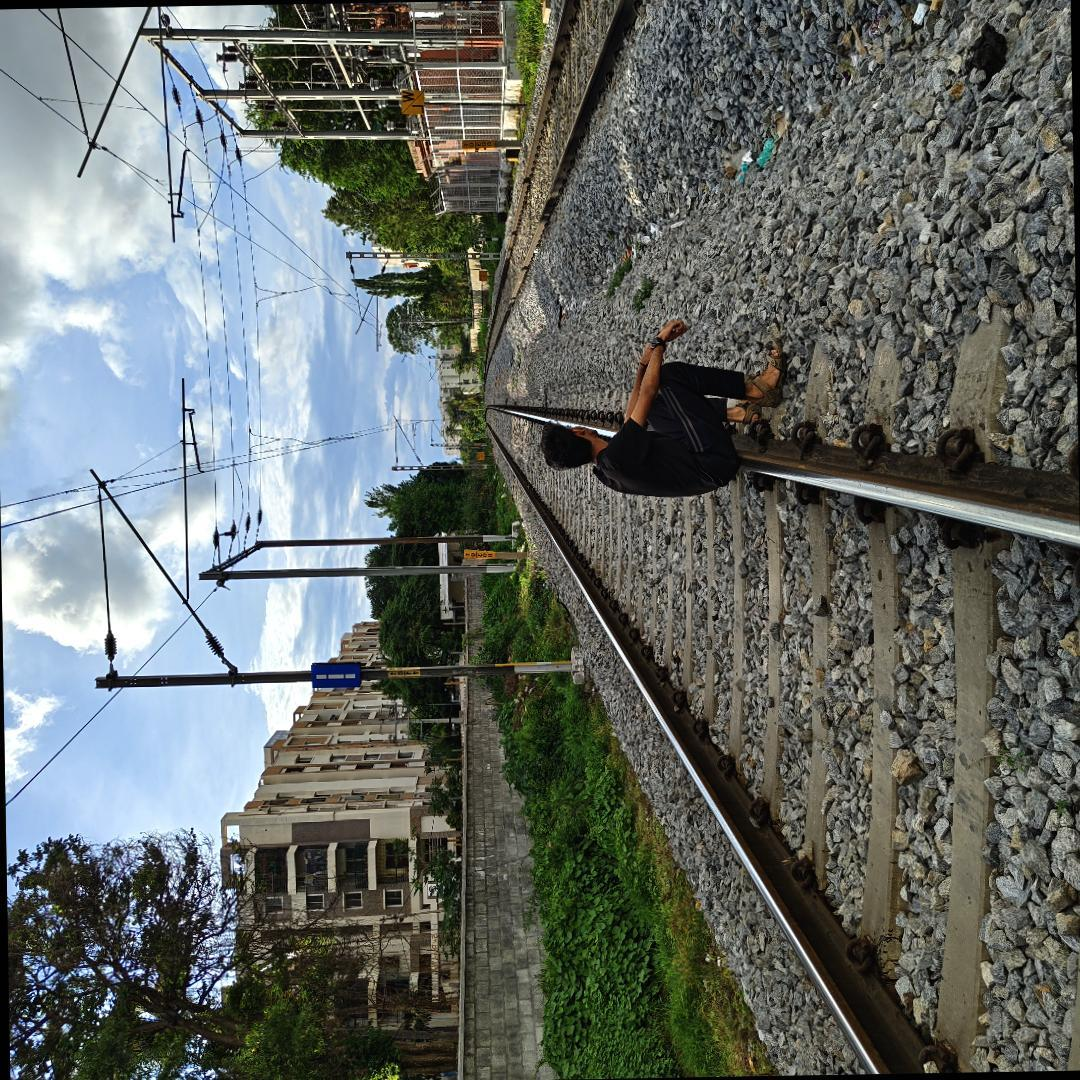sitting: (518, 304, 799, 504)
